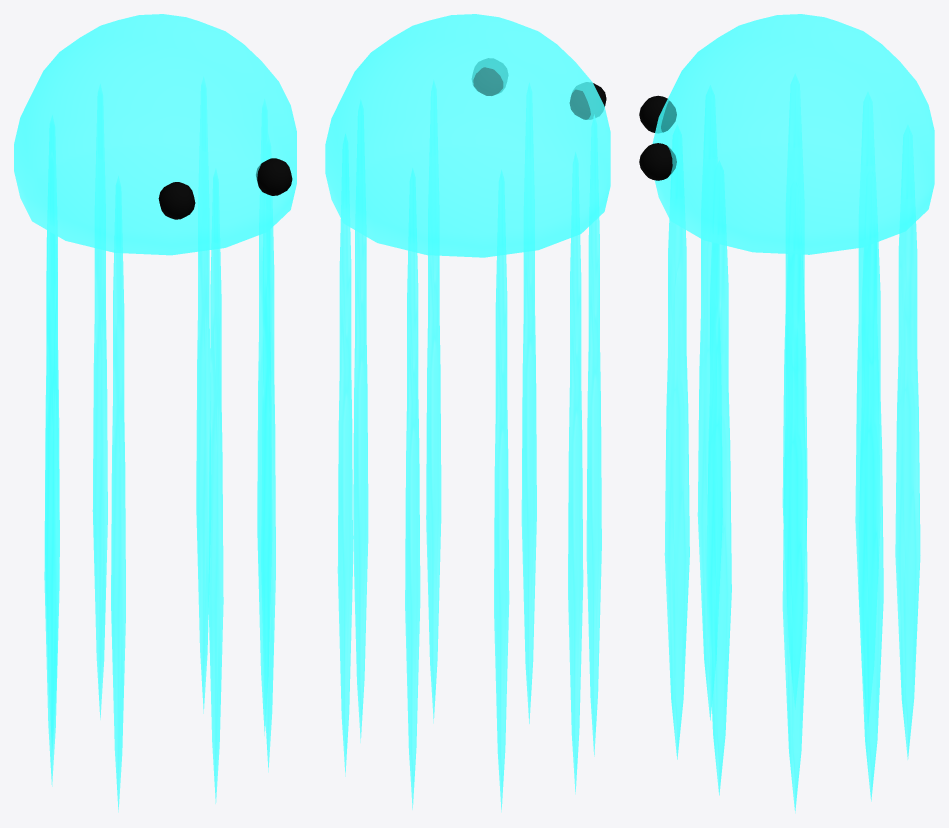
Rendered from zako.ika.fbx.
3 renders of one model, left to right at view 1: azimuth 30°, elevation 25°; view 2: azimuth 150°, elevation 25°; view 3: azimuth 270°, elevation 25°, orthographic.
Visible parts, largest first — view 1: obj1.001, obj7, obj3, obj5, obj8, obj6, obj9, obj2, obj10, obj4; view 2: obj1.001, obj4, obj9, obj6, obj5, obj7, obj2, obj3, obj8, obj10; view 3: obj1.001, obj2, obj9, obj8, obj6, obj3, obj7, obj4, obj10, obj5.
Boxes of the visible parts, x1=… form: obj1.001: x1=14, y1=14, x2=296, y2=255; obj7: x1=111, y1=176, x2=125, y2=812; obj3: x1=208, y1=169, x2=223, y2=803; obj5: x1=44, y1=152, x2=59, y2=786; obj8: x1=261, y1=135, x2=275, y2=772; obj6: x1=92, y1=84, x2=107, y2=719; obj9: x1=196, y1=77, x2=210, y2=713; obj2: x1=257, y1=99, x2=267, y2=735; obj10: x1=158, y1=158, x2=292, y2=219; obj4: x1=45, y1=115, x2=59, y2=563; obj1.001: x1=325, y1=14, x2=610, y2=257; obj4: x1=494, y1=170, x2=509, y2=812; obj9: x1=337, y1=134, x2=352, y2=776; obj6: x1=405, y1=168, x2=420, y2=809; obj5: x1=568, y1=152, x2=583, y2=794; obj7: x1=586, y1=115, x2=601, y2=756; obj2: x1=353, y1=100, x2=368, y2=742; obj3: x1=521, y1=83, x2=536, y2=723; obj8: x1=426, y1=80, x2=441, y2=723; obj10: x1=472, y1=58, x2=606, y2=119; obj1.001: x1=652, y1=14, x2=934, y2=254; obj2: x1=782, y1=177, x2=807, y2=813; obj9: x1=858, y1=166, x2=883, y2=801; obj8: x1=706, y1=160, x2=731, y2=795; obj6: x1=895, y1=125, x2=920, y2=759; obj3: x1=664, y1=125, x2=689, y2=759; obj7: x1=697, y1=85, x2=717, y2=720; obj4: x1=855, y1=92, x2=874, y2=591; obj10: x1=639, y1=95, x2=676, y2=180; obj5: x1=782, y1=73, x2=807, y2=522.
Size of the model in its own units: 198 by 565 by 206.
